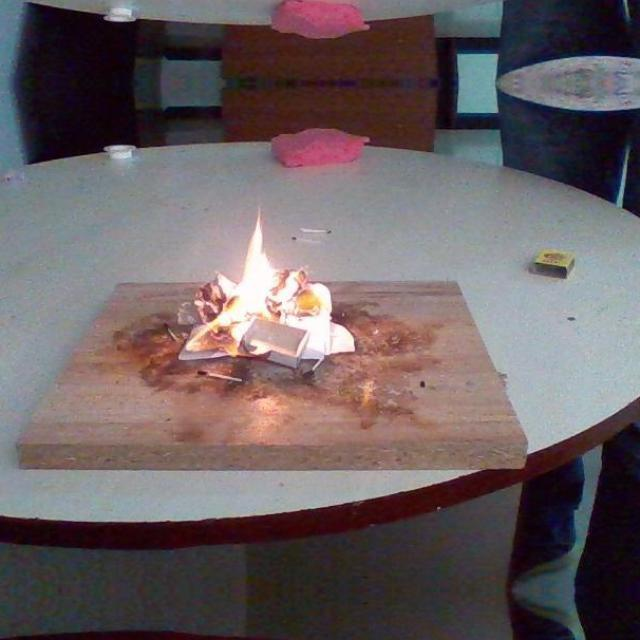smoke: (183, 206, 284, 346)
